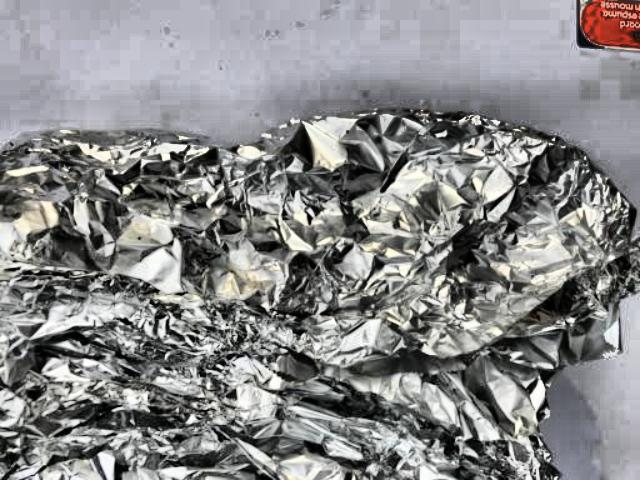Almennt: (0, 99, 640, 480)
